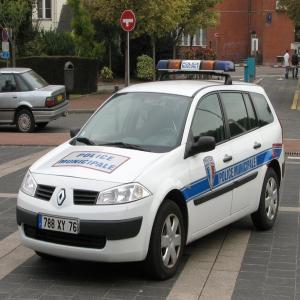Vehicle-registration-plate: (39, 214, 79, 234), (58, 96, 63, 101)
